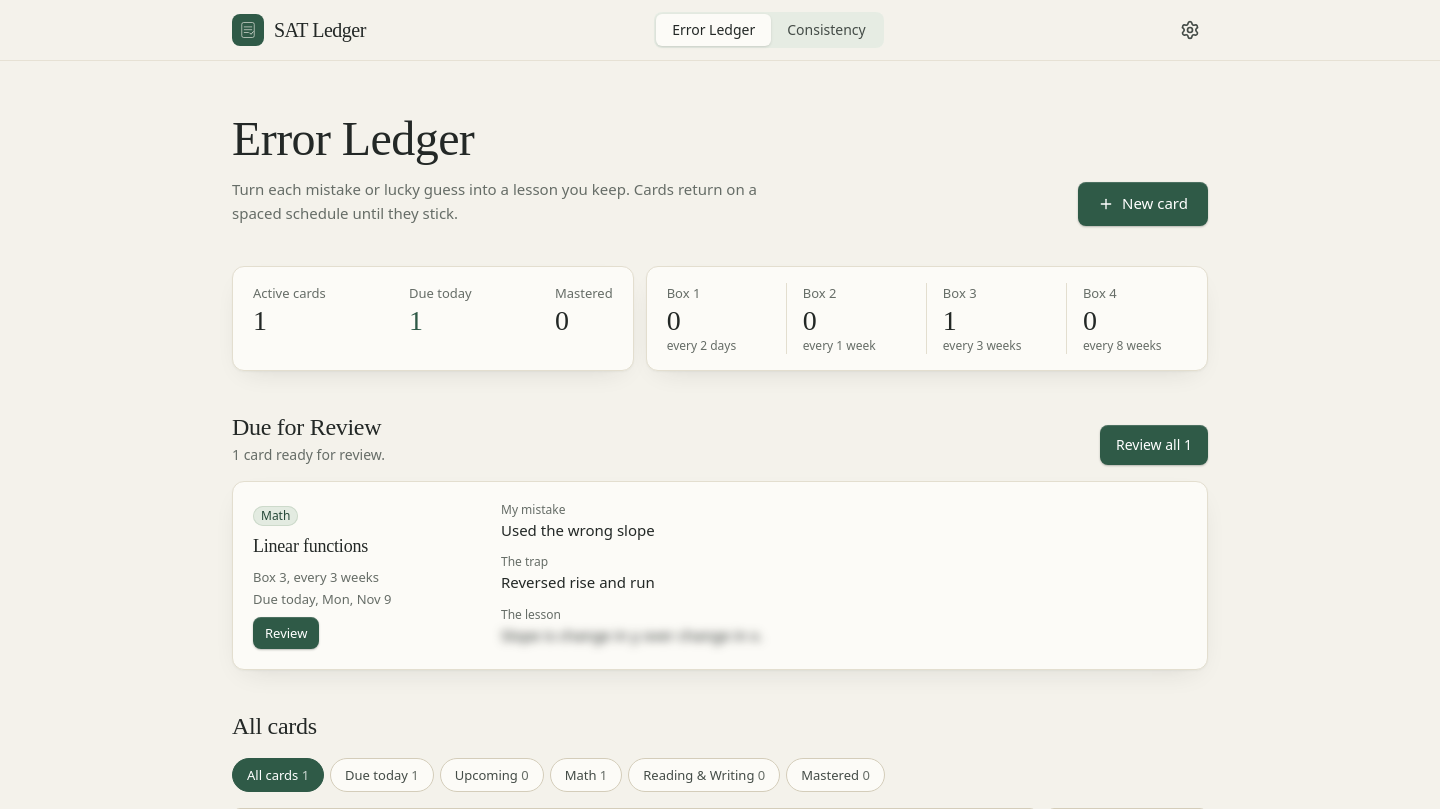
Error Ledger: reviewing › returns a card to Box 1, due in two days, when you did not recall it
Click the button with aria-label "Review Linear functions" at (286, 633), box 253,617 -> 319,649
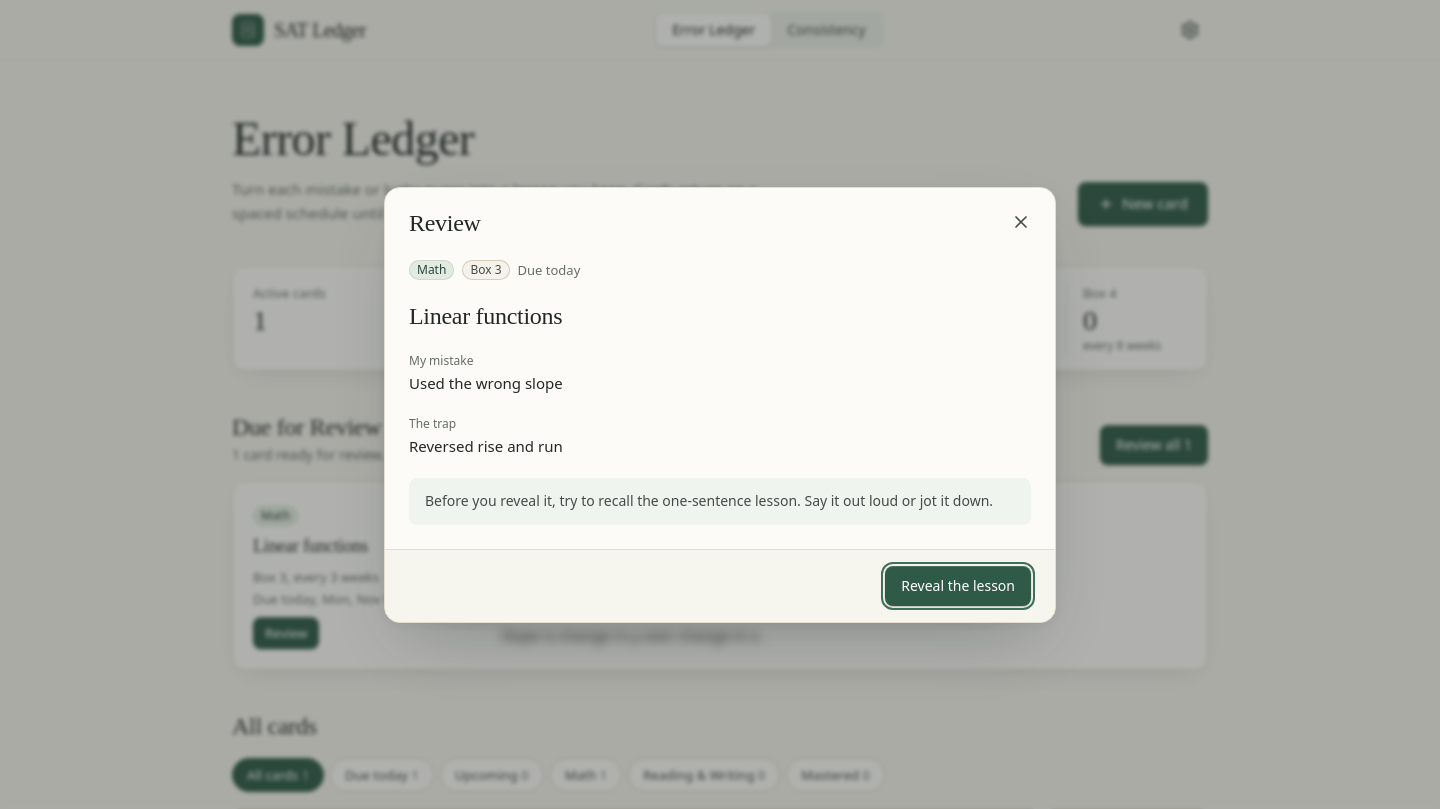
Click the button "Reveal the lesson" at (958, 586), box 885,566 -> 1031,606
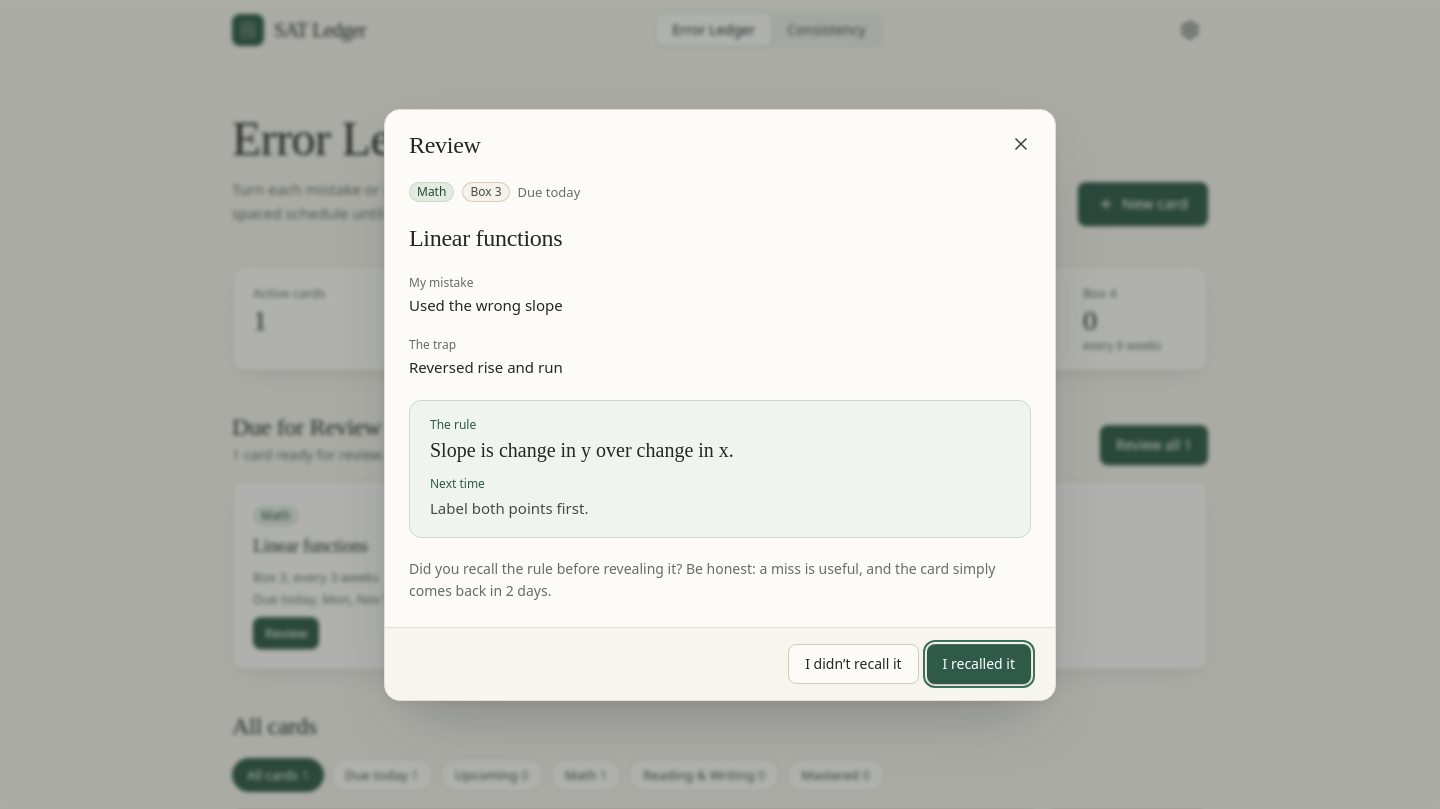
Click the button "I didn’t recall it" at (853, 664), box 788,644 -> 919,684
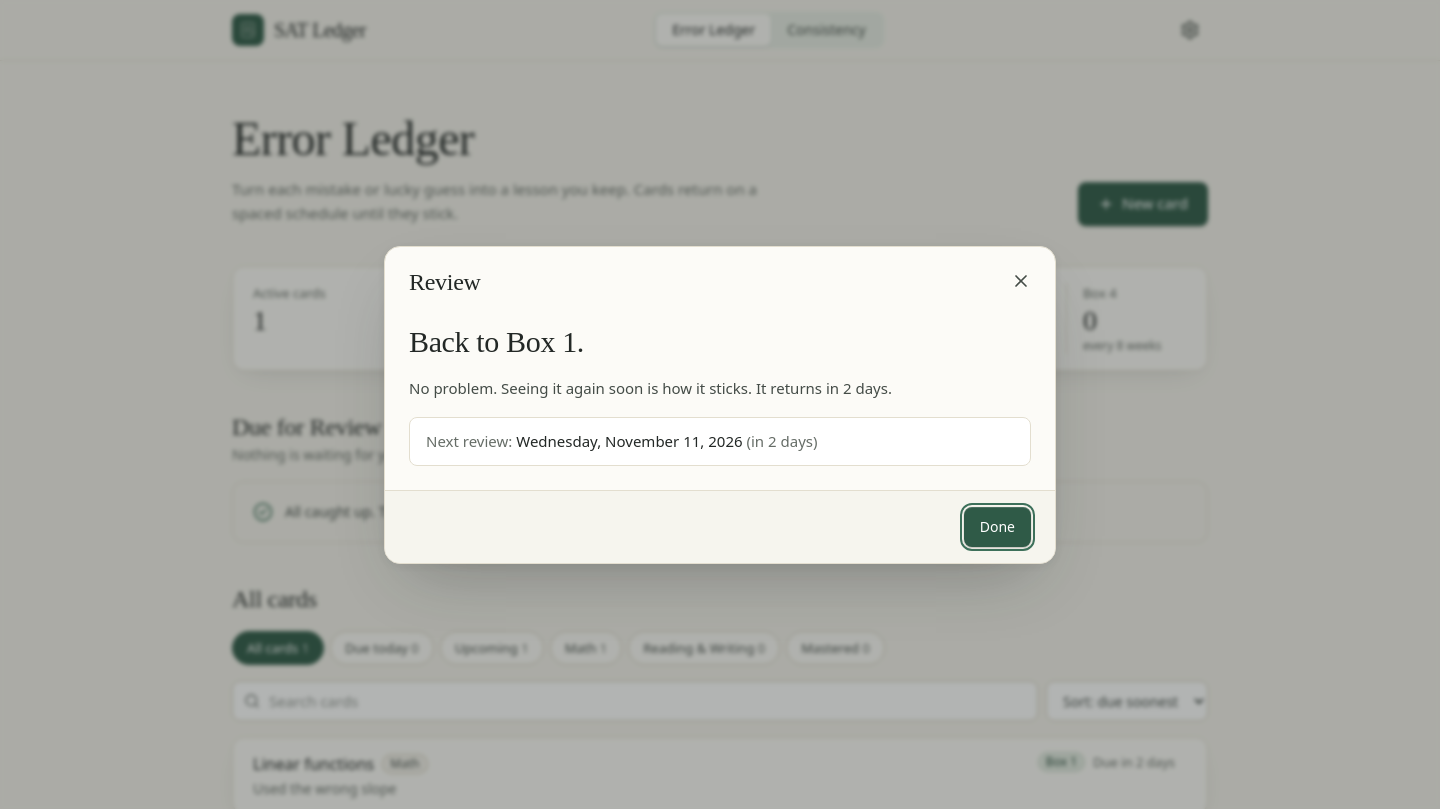
Expected: the heading "Back to Box 1." is shown, 409,325 -> 584,358
